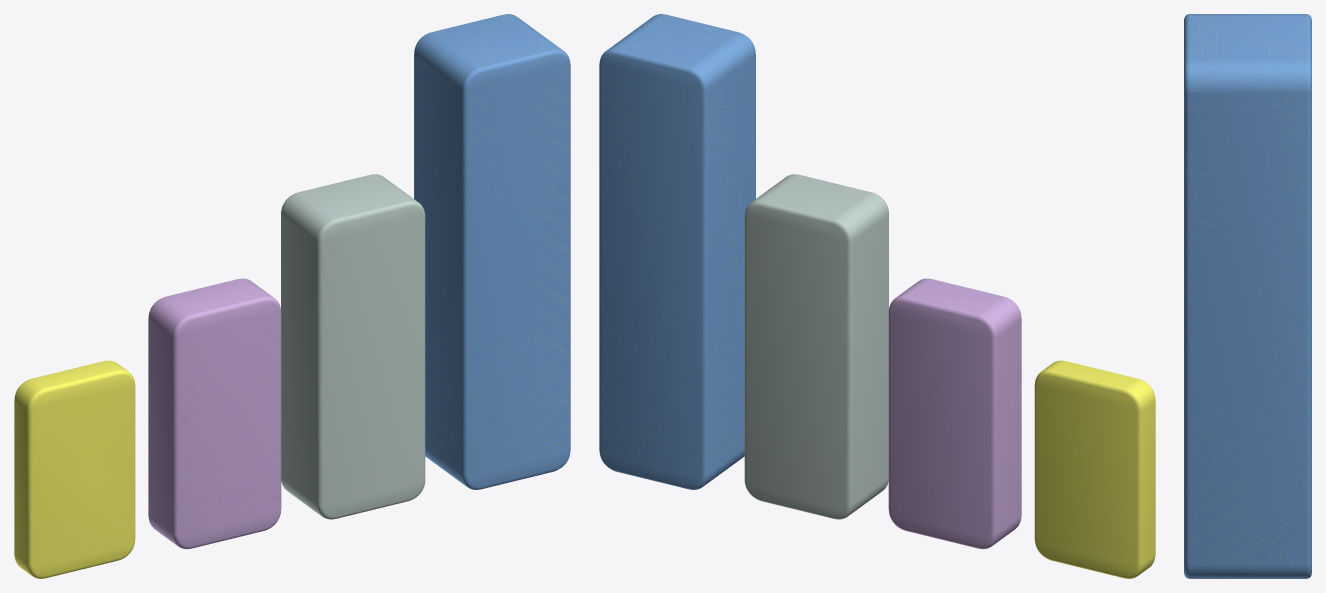
File: chart.glb
3 views of the same model, side by side, from view 1: azimuth 30°, elevation 25°; view 2: azimuth 150°, elevation 25°; view 3: azimuth 270°, elevation 25° (orthographic). The views are drawn at different scales.
Visible parts, largest first — view 1: aa.040, aa.033, aa.032, aa.035; view 2: aa.040, aa.033, aa.032, aa.035; view 3: aa.040.
Boxes of the visible parts, x1,y1,x2,y2 form: aa.040: (414,14,570,489); aa.033: (281,174,425,519); aa.032: (148,278,281,549); aa.035: (14,360,135,578); aa.040: (599,14,755,489); aa.033: (744,174,888,519); aa.032: (888,278,1021,549); aa.035: (1034,360,1155,578); aa.040: (1184,14,1311,578).
Size of the model in its own units: 0.1942 by 0.1491 by 0.0334.
1 material, 1 textured.
